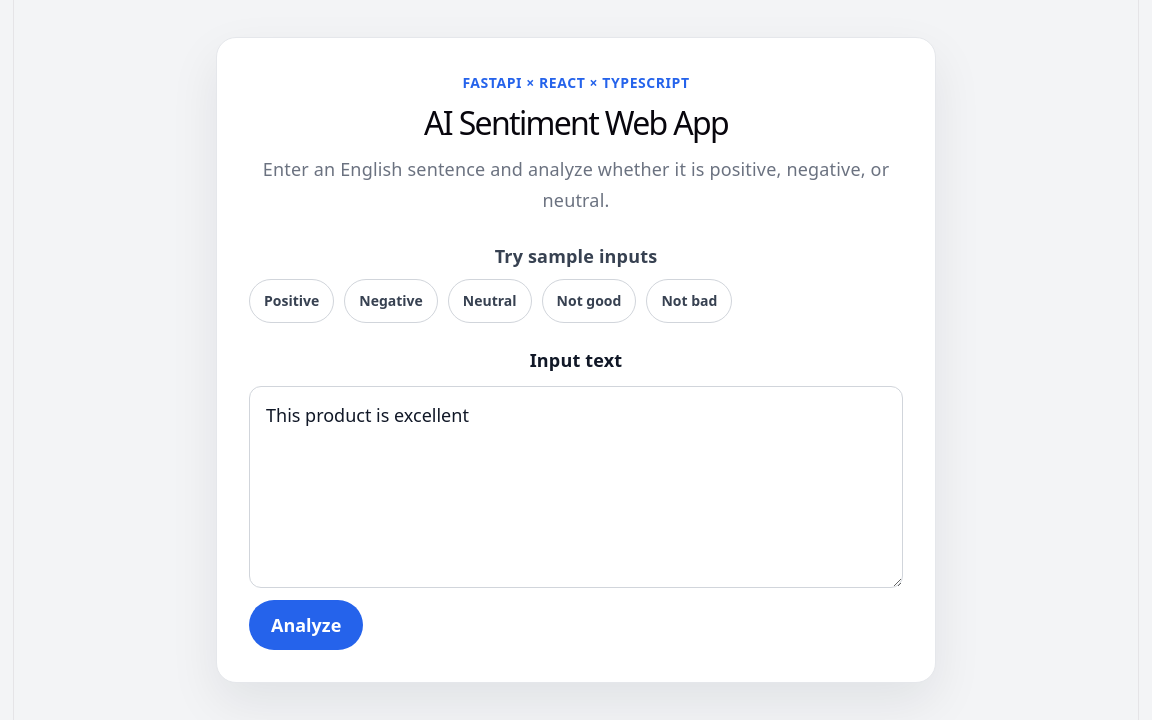
Scenario: App › updates textarea when a sample button is clicked
Step 1. Click the button "Not good" → (589, 301), box 542,279 -> 636,323
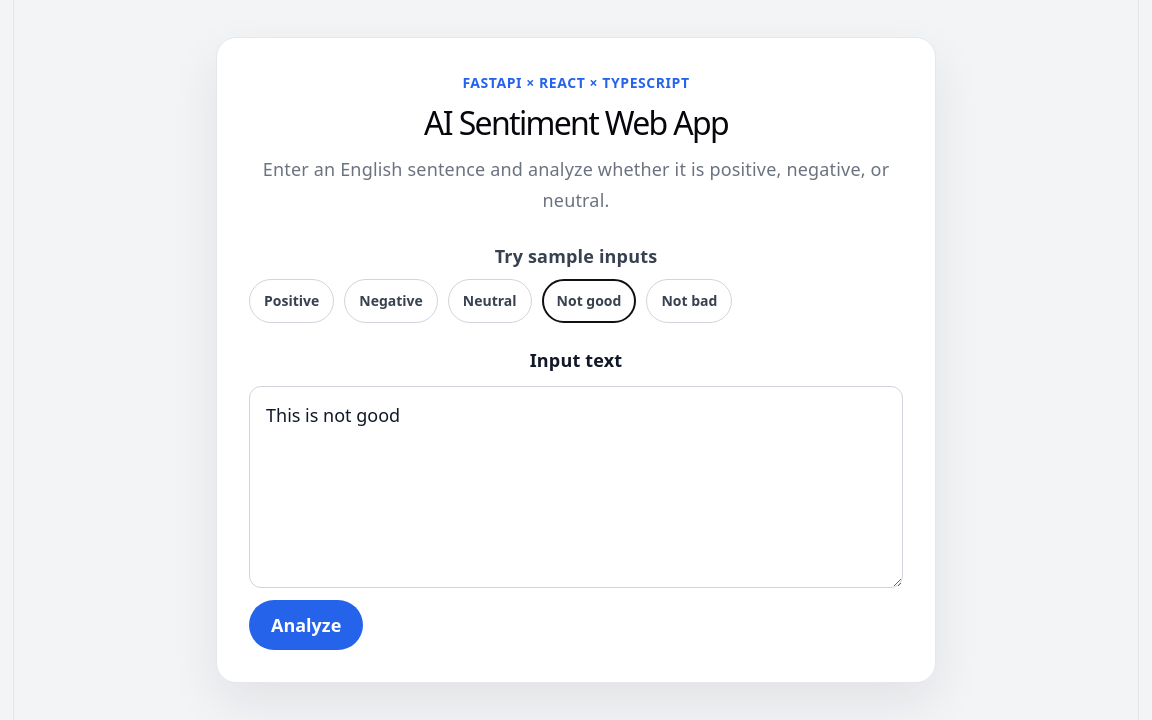
Check: the text box labelled "Input text" holds "This is not good", box 249,386 -> 903,588
